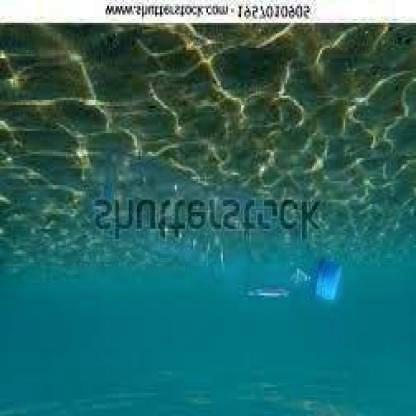pbottle: (81, 133, 352, 318)
